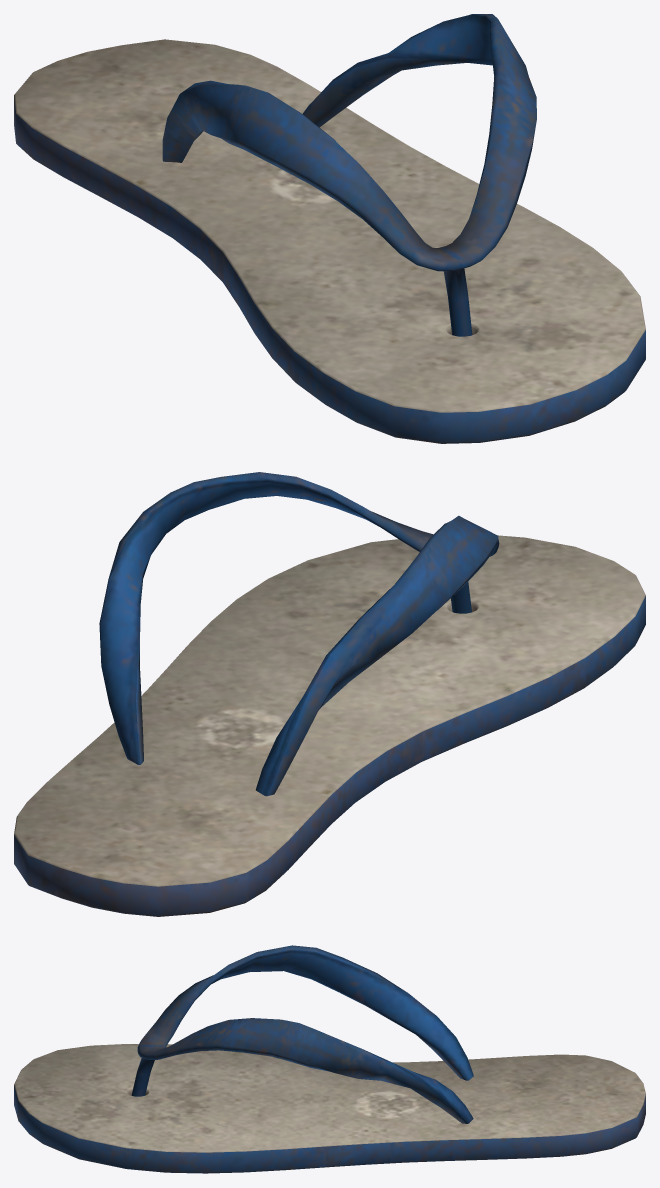
The model's file is slipper02.FBX.
3 views of the same model, one above another, from view 1: azimuth 30°, elevation 25°; view 2: azimuth 150°, elevation 25°; view 3: azimuth 270°, elevation 25° (orthographic). The views are drawn at different scales.
Parts seen in each view (by area): view 1: SM_Slipper02; view 2: SM_Slipper02; view 3: SM_Slipper02.
Boxes of the visible parts, x1,y1,x2,y2 form: SM_Slipper02: (14, 14, 645, 443); SM_Slipper02: (14, 472, 645, 916); SM_Slipper02: (14, 945, 645, 1173).
Bounding box in the file's own units: 11.61 × 7.09 × 28.58.
1 material, 1 textured.
